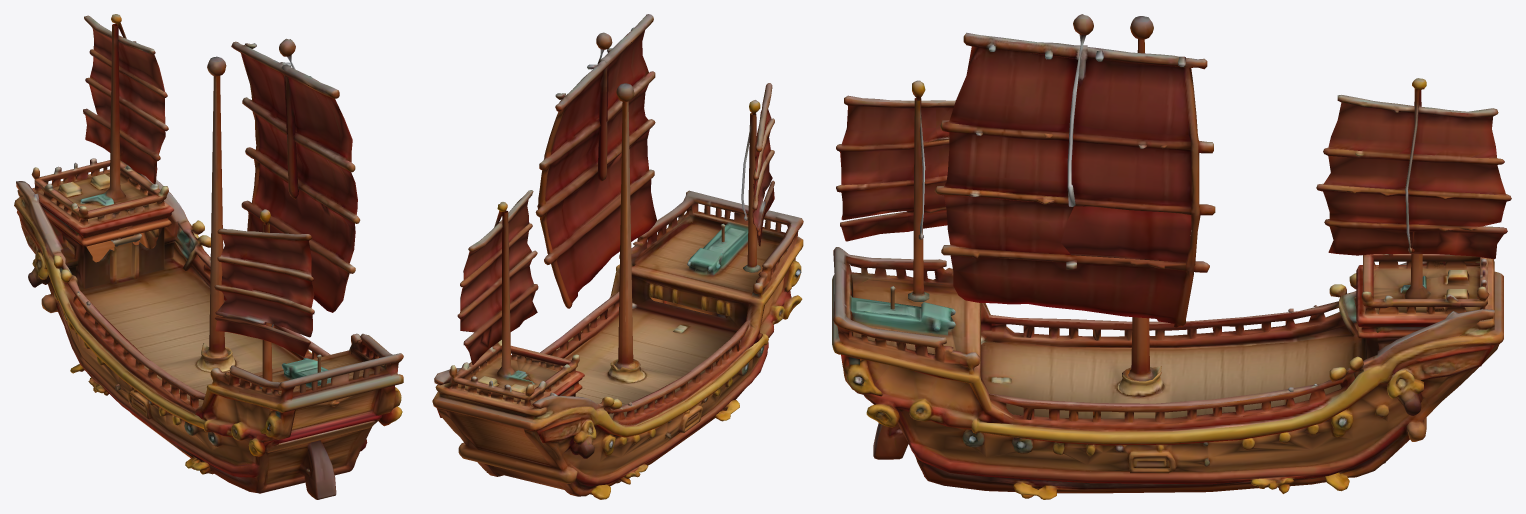
Rendered from junk_ship.glb.
The picture shows the model from 3 angles, left to right: view 1: azimuth 30°, elevation 25°; view 2: azimuth 150°, elevation 25°; view 3: azimuth 270°, elevation 25°; orthographic projection. The views are drawn at different scales.
Visible parts, largest first — view 1: tripo_node_a6042e35-10e1-4a7f-a169-4bc2efe765fc; view 2: tripo_node_a6042e35-10e1-4a7f-a169-4bc2efe765fc; view 3: tripo_node_a6042e35-10e1-4a7f-a169-4bc2efe765fc.
Boxes of the visible parts, x1,y1,x2,y2 form: tripo_node_a6042e35-10e1-4a7f-a169-4bc2efe765fc: (14,14,403,499); tripo_node_a6042e35-10e1-4a7f-a169-4bc2efe765fc: (432,14,803,499); tripo_node_a6042e35-10e1-4a7f-a169-4bc2efe765fc: (832,14,1511,499).
Bounding box in the file's own units: 0.3424 × 0.7711 × 1.
1 material, 1 textured.
